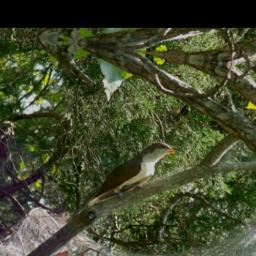Cuckoo: (65, 128, 180, 236)
